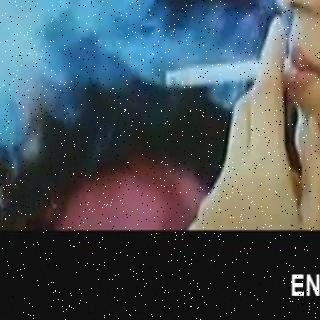smoke: (4, 0, 240, 123)
